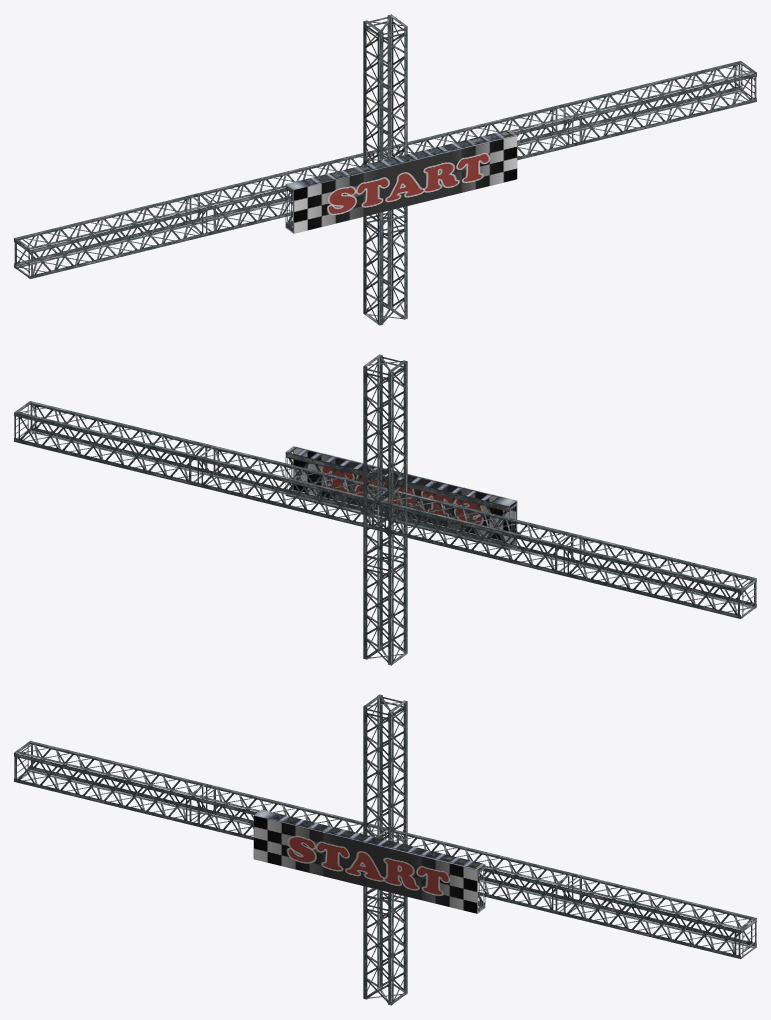
Rendered from Track Structures.fbx.
3 renders of one model, top to bottom at view 1: azimuth 30°, elevation 25°; view 2: azimuth 150°, elevation 25°; view 3: azimuth 330°, elevation 25°, orthographic.
Visible parts, largest first — view 1: Horizontal Pole, Start Banner, Vertical Pole; view 2: Horizontal Pole, Vertical Pole, Start Banner; view 3: Horizontal Pole, Start Banner, Vertical Pole.
Boxes of the visible parts, box(x1,y1,x2,y2) form: Horizontal Pole: box(14, 61, 756, 278); Start Banner: box(285, 129, 517, 233); Vertical Pole: box(363, 14, 407, 325); Horizontal Pole: box(14, 401, 756, 618); Vertical Pole: box(363, 354, 407, 665); Start Banner: box(285, 446, 517, 549); Horizontal Pole: box(14, 741, 756, 958); Start Banner: box(253, 809, 485, 913); Vertical Pole: box(363, 694, 407, 1005).
Bounding box in the file's own units: 26 × 10 × 1.74.
